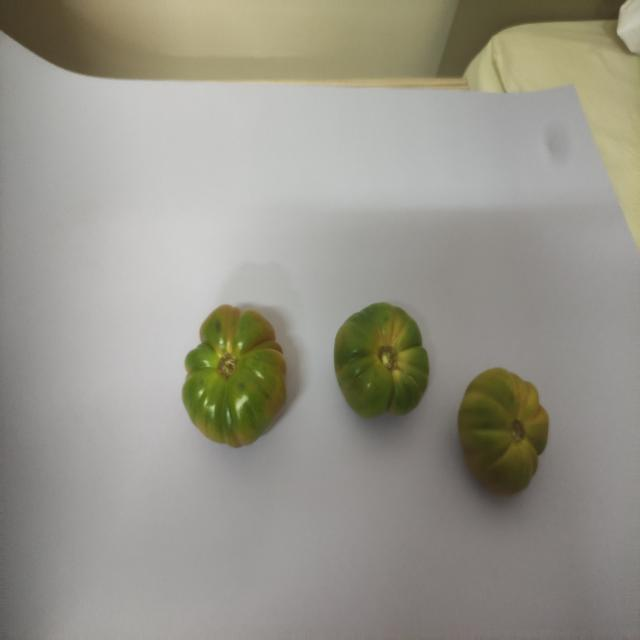yesil: (165, 293, 295, 446), (454, 356, 565, 512), (321, 284, 439, 426)
